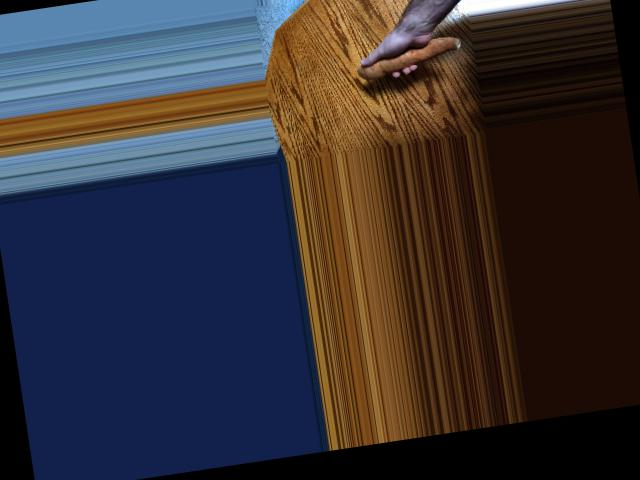sweet_potato: (354, 29, 468, 82)
